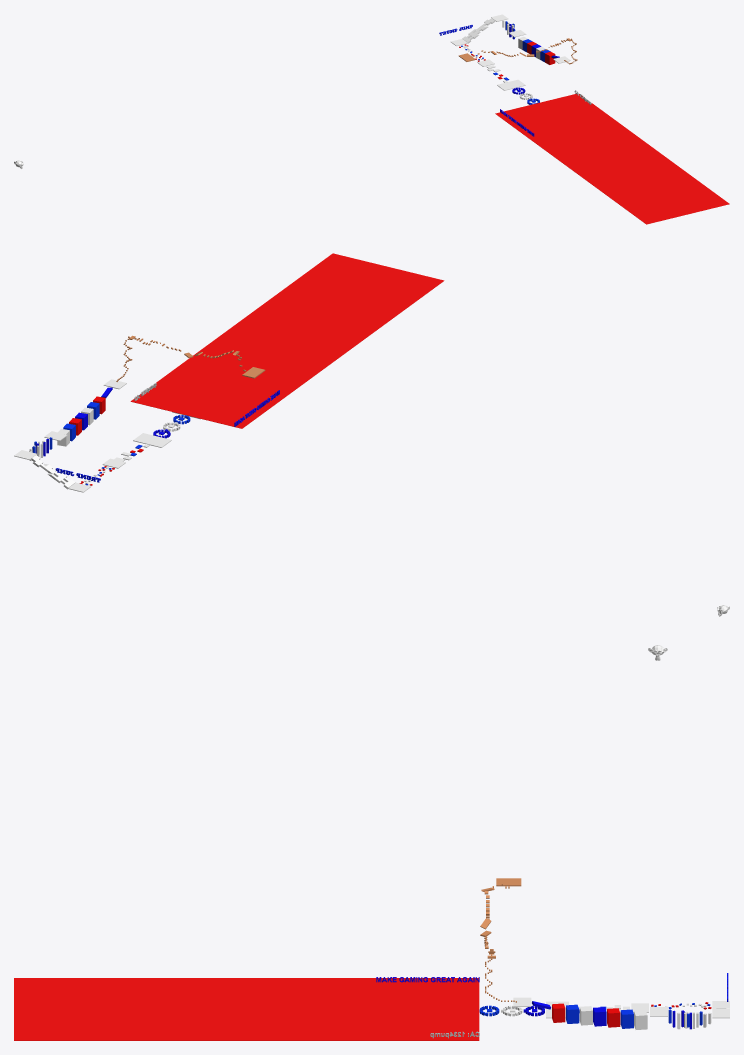
The picture shows the model from 3 angles, top to bottom: view 1: azimuth 30°, elevation 25°; view 2: azimuth 150°, elevation 25°; view 3: azimuth 270°, elevation 25°; orthographic projection. The views are drawn at different scales.
Visible parts, largest first — view 1: Box; view 2: Box; view 3: Box.
Boxes of the visible parts, x1,y1,x2,y2 form: Box: [495, 94, 729, 224]; Box: [130, 253, 444, 428]; Box: [14, 978, 479, 1040].
Size of the model in its own units: 3538 by 402 by 2797.
